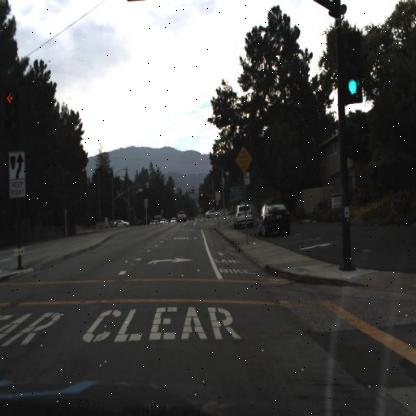car: (258, 202, 288, 238), (234, 204, 253, 229)
trafficLight-Green: (338, 33, 362, 103)
trafficLight-RedLeft: (4, 87, 18, 142)
